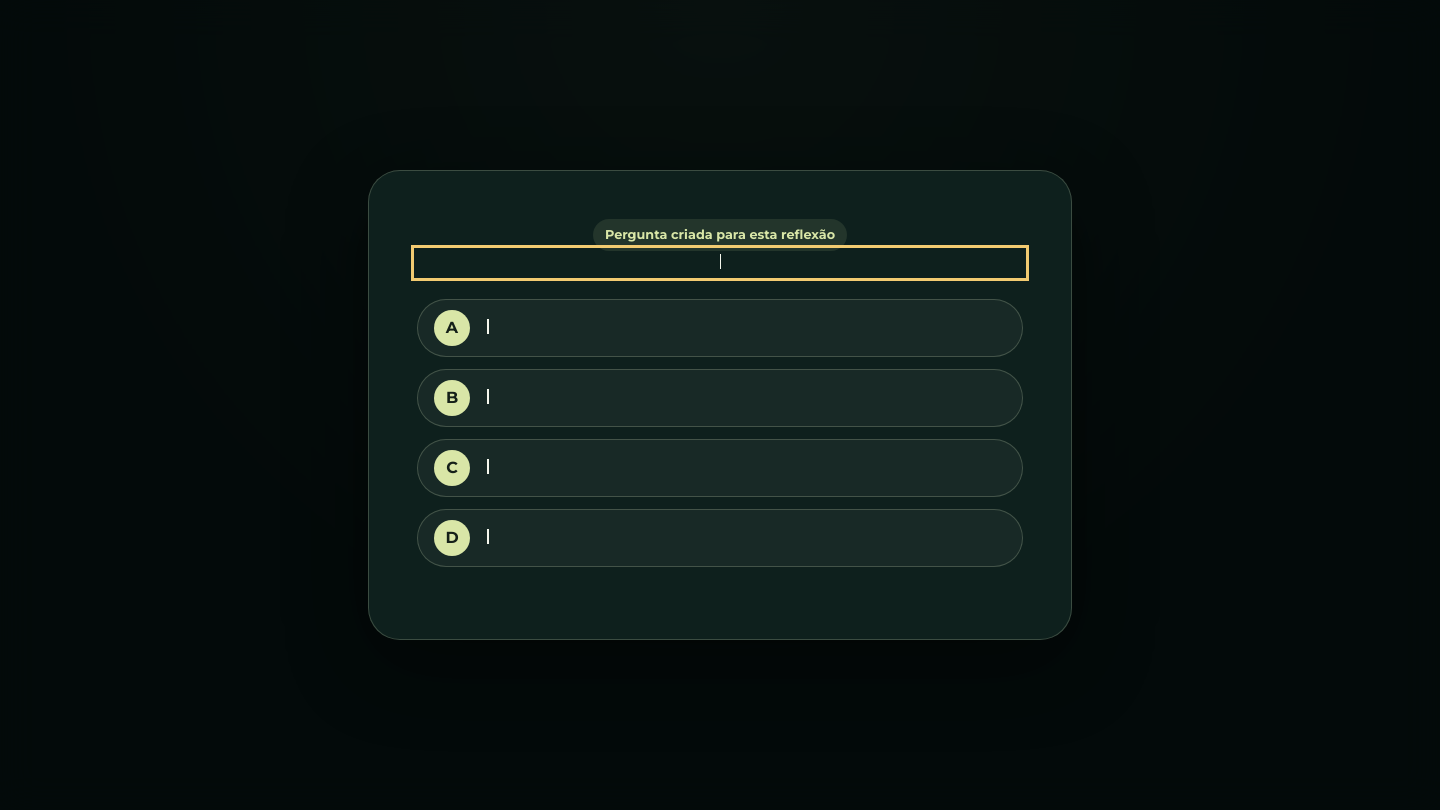
Test case: SelahOverlay › renders exactly four alternatives and displays evaluated feedback
Click the button named "Alternativa A: A luz" at x=452, y=328, box [417, 299, 1023, 357]
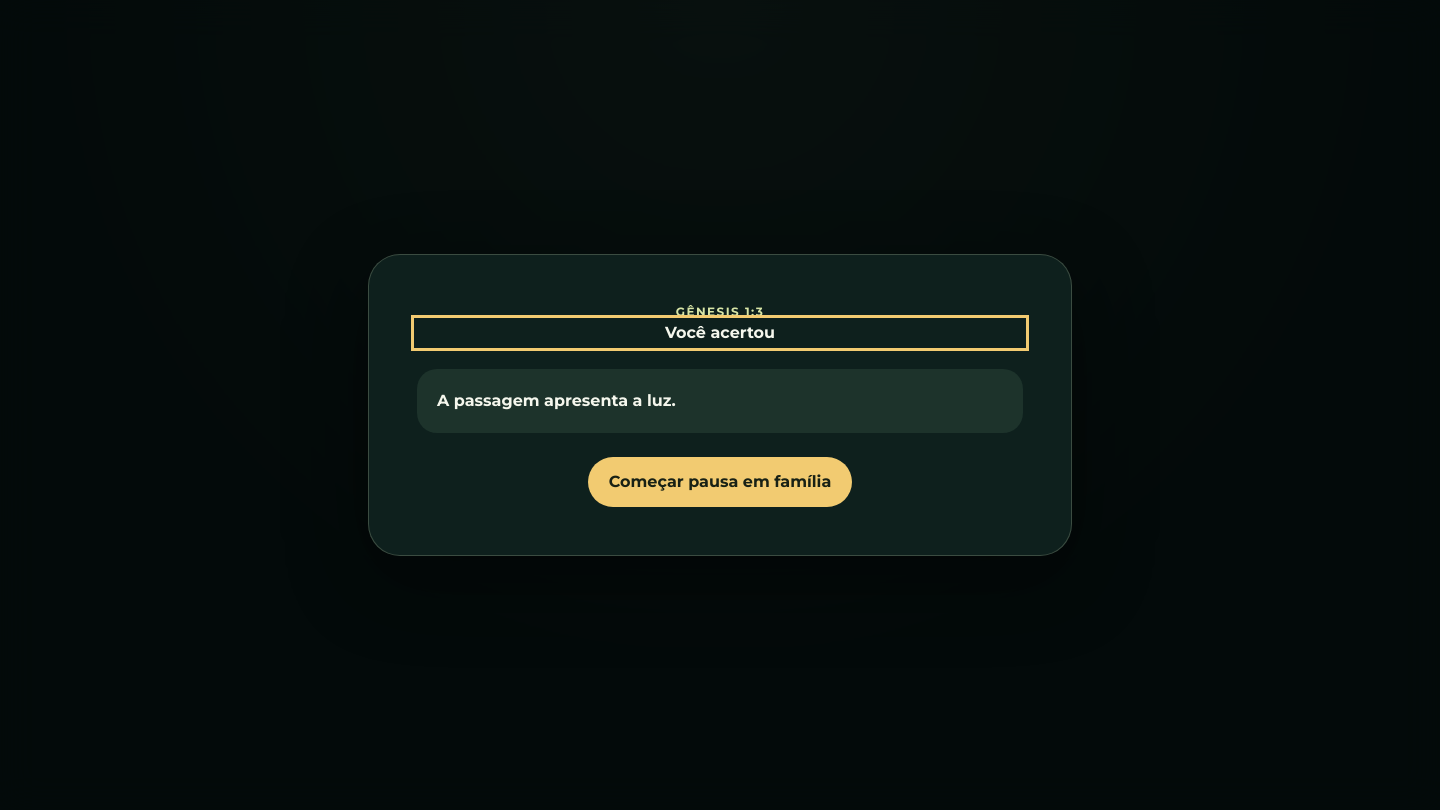
Now the heading "Você acertou" is shown, box [665, 323, 775, 342]
